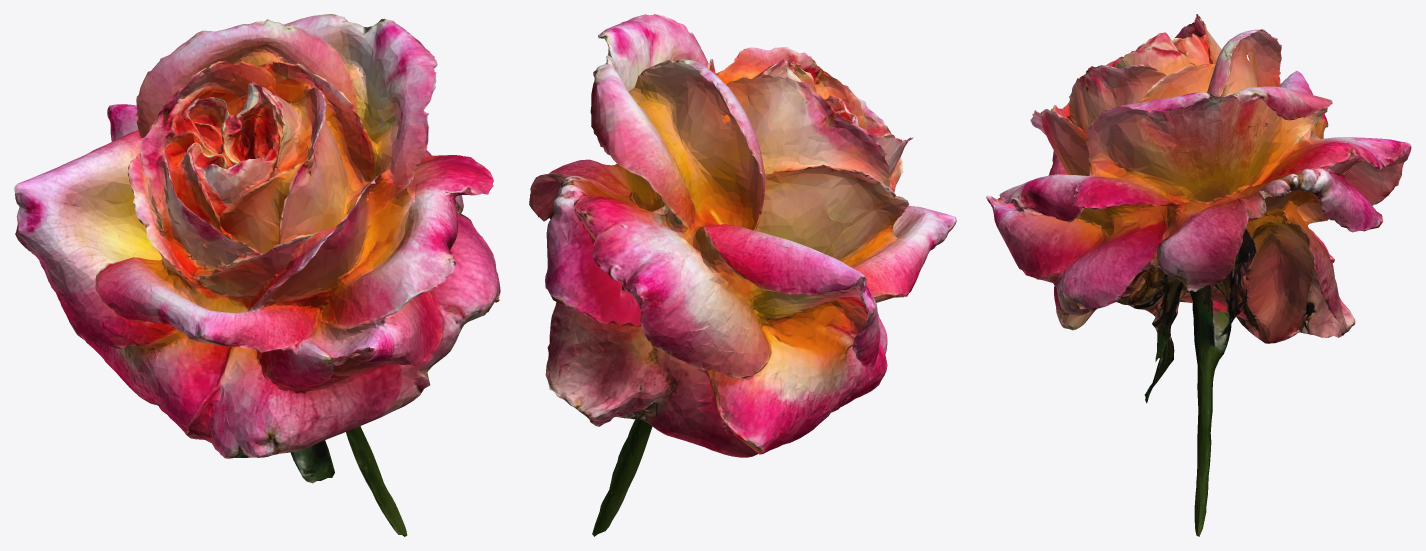
The model's file is rose.glb.
3 renders of one model, left to right at view 1: azimuth 30°, elevation 25°; view 2: azimuth 150°, elevation 25°; view 3: azimuth 270°, elevation 25°, orthographic. The views are drawn at different scales.
Size of the model in its own units: 0.0919 by 0.121 by 0.1045.
1 material, 1 textured.
